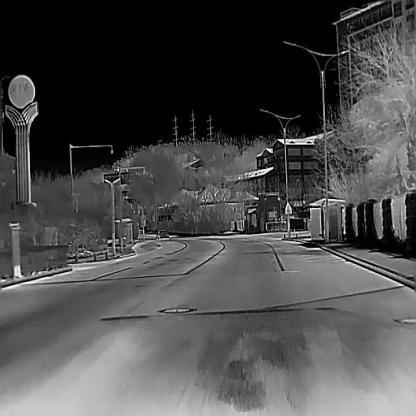car: (155, 229, 169, 241)
